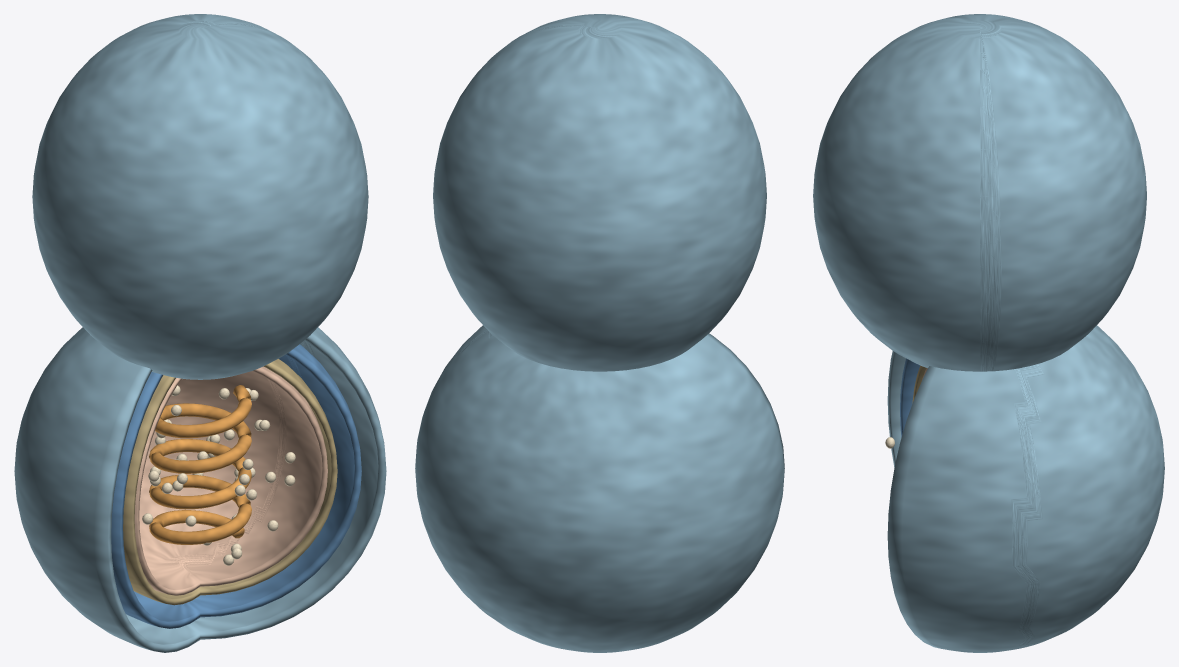
File: cutaway.glb
The picture shows the model from 3 angles, left to right: view 1: azimuth 30°, elevation 25°; view 2: azimuth 150°, elevation 25°; view 3: azimuth 270°, elevation 25°; orthographic projection.
Parts seen in each view (by area): view 1: capsula_bacteriana_mesh, citoplasma_mesh, parede_mesh, nucleoide_mesh, membrana_mesh, ribossomos_mesh; view 2: capsula_bacteriana_mesh; view 3: capsula_bacteriana_mesh, parede_mesh.
Boxes of the visible parts, <box> form: capsula_bacteriana_mesh: <box>14,14,386,652</box>; citoplasma_mesh: <box>134,366,327,595</box>; parede_mesh: <box>111,344,361,628</box>; nucleoide_mesh: <box>149,385,251,544</box>; membrana_mesh: <box>123,359,337,605</box>; ribossomos_mesh: <box>142,378,295,565</box>; capsula_bacteriana_mesh: <box>415,14,784,652</box>; capsula_bacteriana_mesh: <box>813,14,1164,652</box>; parede_mesh: <box>900,358,920,437</box>.
Bounding box in the file's own units: 1.66 × 3.01 × 1.58.
Materials: 6 (6 with a texture image).
